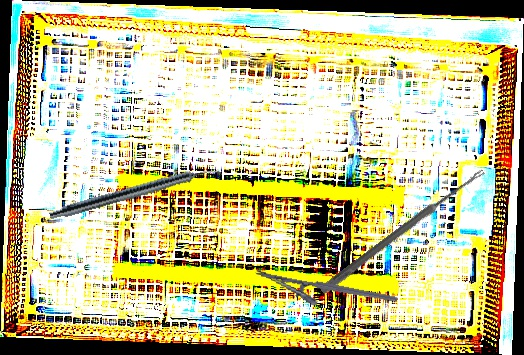Handpiece: (48, 160, 223, 226)
Needle Holder: (250, 268, 399, 322)
Surgical Spoon: (319, 166, 486, 296)
